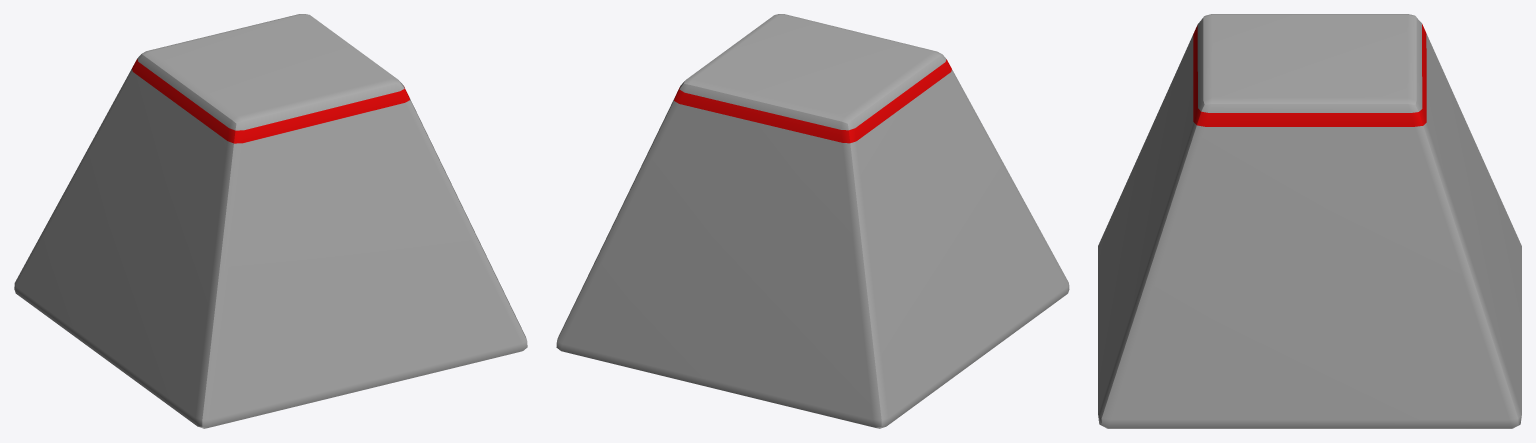
The model's file is Ppillier 1.1.fbx.
The picture shows the model from 3 angles, left to right: view 1: azimuth 30°, elevation 25°; view 2: azimuth 150°, elevation 25°; view 3: azimuth 270°, elevation 25°; orthographic projection. The views are drawn at different scales.
Parts seen in each view (by area): view 1: Ppillier_2_1; view 2: Ppillier_2_1; view 3: Ppillier_2_1.
Boxes of the visible parts, x1,y1,x2,y2 form: Ppillier_2_1: (14, 14, 527, 428); Ppillier_2_1: (556, 14, 1069, 428); Ppillier_2_1: (1098, 14, 1521, 428).
Bounding box in the file's own units: 391 × 292 × 390.
